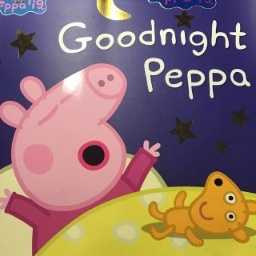Peppa: (1, 61, 164, 256)
